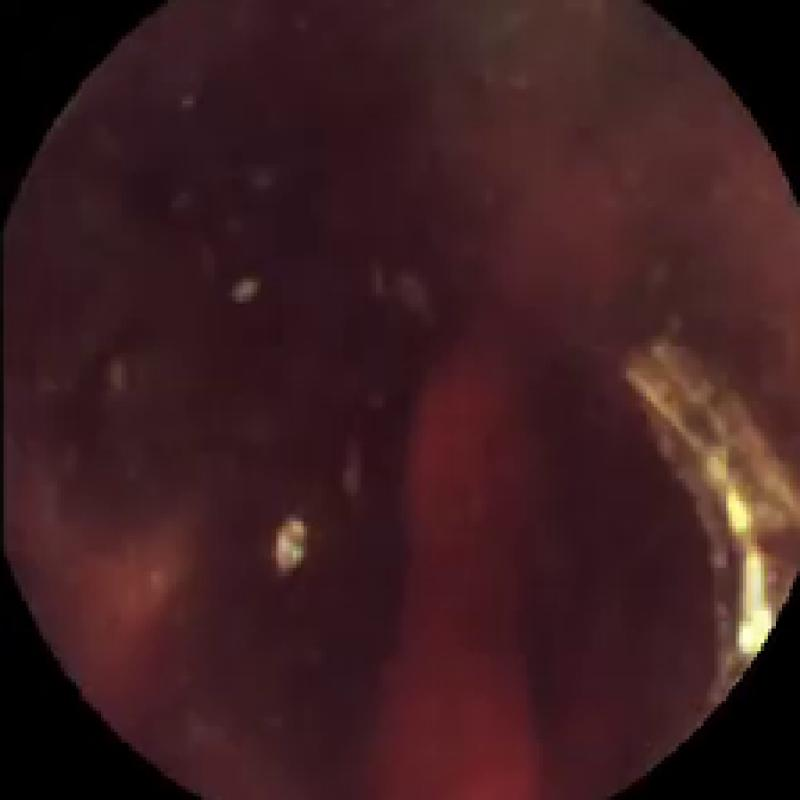bleeding: (0, 435, 310, 800), (357, 332, 543, 800)
